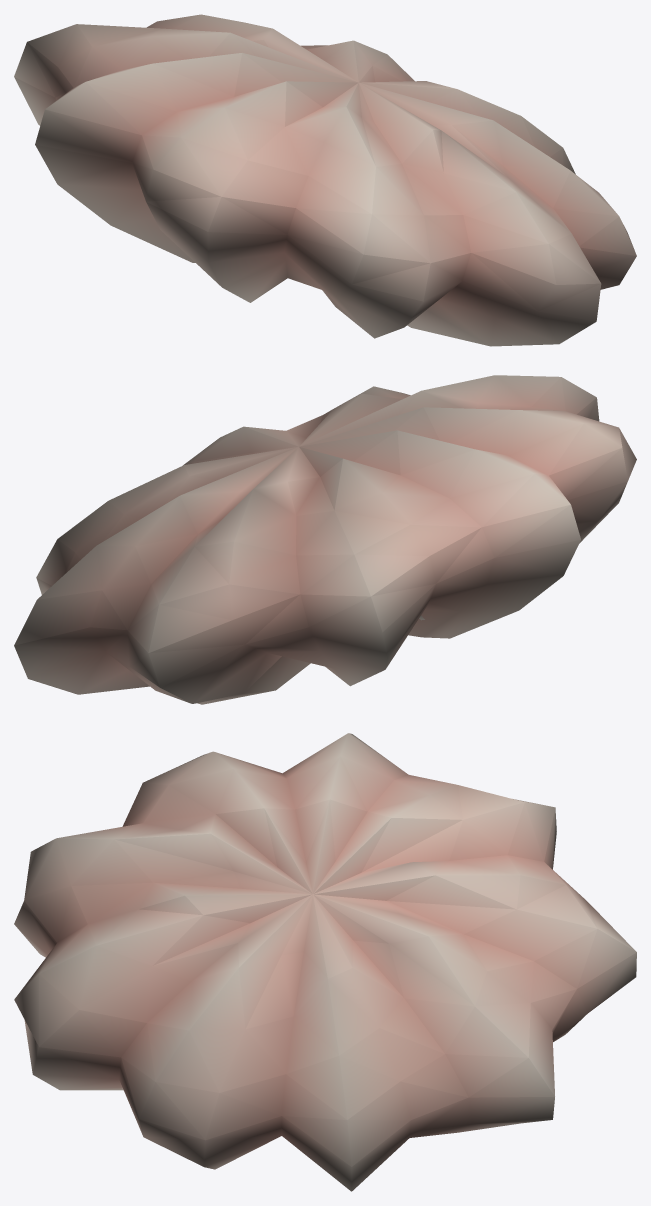
File: seashell.glb
The picture shows the model from 3 angles, top to bottom: view 1: azimuth 30°, elevation 25°; view 2: azimuth 150°, elevation 25°; view 3: azimuth 270°, elevation 25°; orthographic projection. The views are drawn at different scales.
Visible parts, largest first — view 1: seashell; view 2: seashell; view 3: seashell.
Boxes of the visible parts, <box> form: seashell: <box>14,14,636,346</box>; seashell: <box>14,375,636,704</box>; seashell: <box>14,733,636,1191</box>.
Bounding box in the file's own units: 0.837 × 0.3923 × 0.889.
